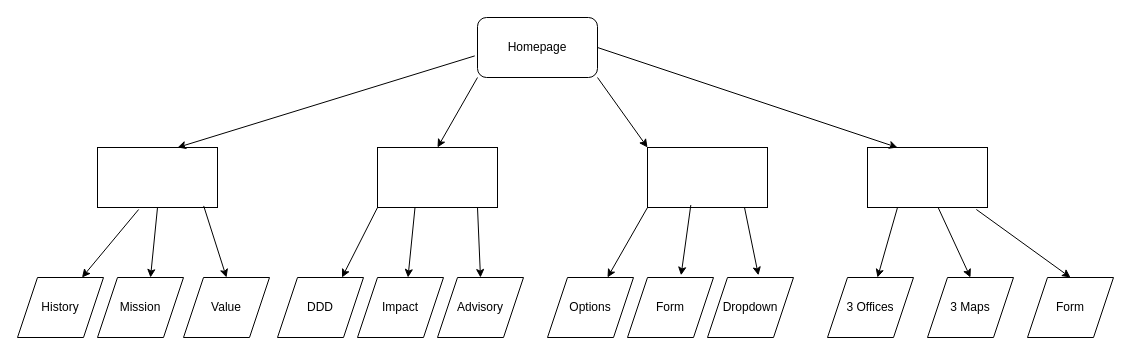
Some shapes in this 1131 by 355 pixel diagram are drawn without their labels. The shapes that lost their labels are listed below. From the top down, each one's centre as x and y in pixels, then its label:
At point 157,177: "About Us".
At point 437,177: "Programmes".
At point 707,177: "Enquiry".
At point 927,177: "Contact".
